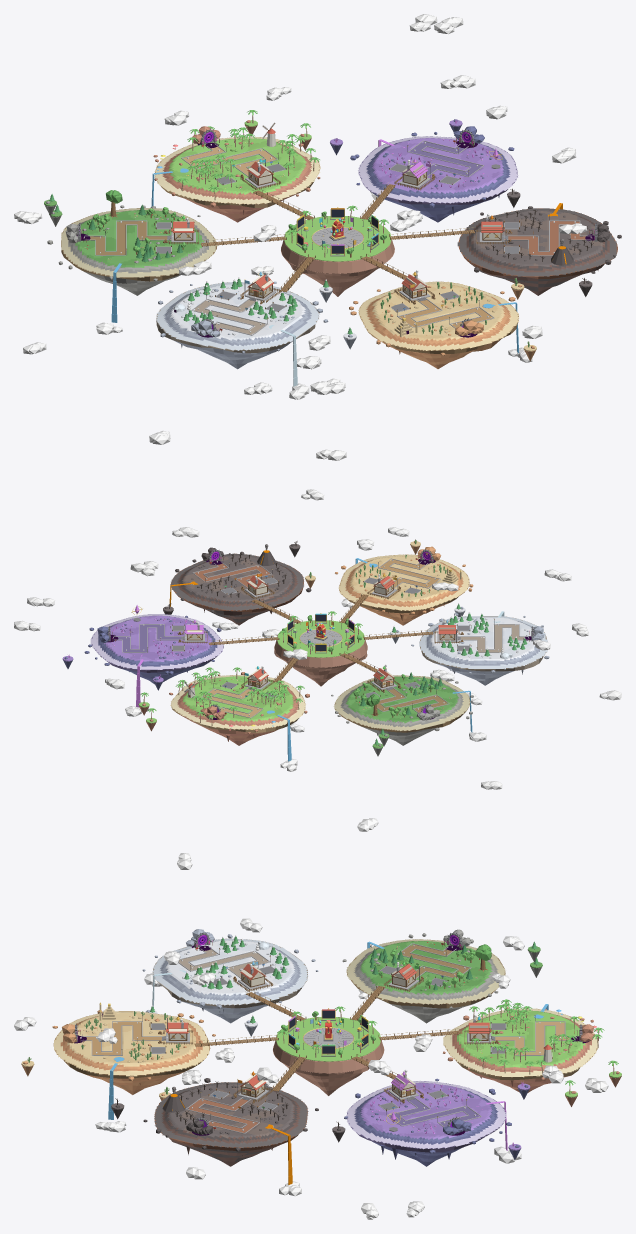
Rendered from mapa_completo.glb.
The picture shows the model from 3 angles, top to bottom: view 1: azimuth 30°, elevation 25°; view 2: azimuth 150°, elevation 25°; view 3: azimuth 270°, elevation 25°; orthographic projection. The views are drawn at different scales.
Parts seen in each view (by area): view 1: Isla6_Cristal_Terreno, Isla1_Tropical_Terreno, Isla4_Desierto_Terreno, Isla5_Volcan_Terreno, Isla2_Bosque_Terreno, Isla3_Nieve_Terreno, Nubes, Centro_Plaza, Isla3_Nieve_Base_Flotante, Isla5_Volcan_Base_Flotante, Isla4_Desierto_Base_Flotante, Isla6_Cristal_Base_Flotante (+18 smaller); view 2: Isla6_Cristal_Terreno, Isla5_Volcan_Terreno, Isla1_Tropical_Terreno, Isla2_Bosque_Terreno, Isla4_Desierto_Terreno, Isla3_Nieve_Terreno, Nubes, Centro_Plaza, Isla3_Nieve_Base_Flotante, Isla1_Tropical_Base_Flotante, Isla2_Bosque_Base_Flotante, Isla5_Volcan_Base_Flotante (+17 smaller); view 3: Isla6_Cristal_Terreno, Isla5_Volcan_Terreno, Isla1_Tropical_Terreno, Isla4_Desierto_Terreno, Isla2_Bosque_Terreno, Isla3_Nieve_Terreno, Nubes, Centro_Plaza, Isla4_Desierto_Base_Flotante, Isla5_Volcan_Base_Flotante, Isla3_Nieve_Base_Flotante, Isla2_Bosque_Base_Flotante (+18 smaller).
Boxes of the visible parts, <box> form: Isla6_Cristal_Terreno: <box>358,136,518,203</box>; Isla1_Tropical_Terreno: <box>154,136,320,204</box>; Isla4_Desierto_Terreno: <box>358,281,519,350</box>; Isla5_Volcan_Terreno: <box>457,208,616,276</box>; Isla2_Bosque_Terreno: <box>61,208,217,277</box>; Isla3_Nieve_Terreno: <box>156,282,320,350</box>; Nubes: <box>14,14,587,460</box>; Centro_Plaza: <box>281,216,394,273</box>; Isla3_Nieve_Base_Flotante: <box>156,282,319,369</box>; Isla5_Volcan_Base_Flotante: <box>458,208,617,295</box>; Isla4_Desierto_Base_Flotante: <box>359,281,518,368</box>; Isla6_Cristal_Base_Flotante: <box>358,136,517,222</box>; Isla6_Cristal_Terreno: <box>90,614,222,669</box>; Isla5_Volcan_Terreno: <box>170,553,303,610</box>; Isla1_Tropical_Terreno: <box>170,674,305,729</box>; Isla2_Bosque_Terreno: <box>333,675,470,730</box>; Isla4_Desierto_Terreno: <box>338,554,469,610</box>; Isla3_Nieve_Terreno: <box>419,616,547,669</box>; Nubes: <box>14,489,621,789</box>; Centro_Plaza: <box>274,620,367,667</box>; Isla3_Nieve_Base_Flotante: <box>419,616,547,685</box>; Isla1_Tropical_Base_Flotante: <box>171,675,305,745</box>; Isla2_Bosque_Base_Flotante: <box>334,675,470,745</box>; Isla5_Volcan_Base_Flotante: <box>171,553,303,625</box>; Isla6_Cristal_Terreno: <box>346,1080,506,1149</box>; Isla5_Volcan_Terreno: <box>154,1082,308,1147</box>; Isla1_Tropical_Terreno: <box>443,1008,598,1077</box>; Isla4_Desierto_Terreno: <box>54,1011,209,1076</box>; Isla2_Bosque_Terreno: <box>346,939,505,1004</box>; Isla3_Nieve_Terreno: <box>152,938,308,1005</box>; Nubes: <box>14,818,608,1219</box>; Centro_Plaza: <box>273,1017,384,1073</box>; Isla4_Desierto_Base_Flotante: <box>53,1011,210,1094</box>; Isla5_Volcan_Base_Flotante: <box>154,1082,307,1166</box>; Isla3_Nieve_Base_Flotante: <box>152,938,307,1023</box>; Isla2_Bosque_Base_Flotante: <box>346,939,505,1023</box>.
Size of the model in its own units: 315 by 94.57 by 310.
1 material, 1 textured.
